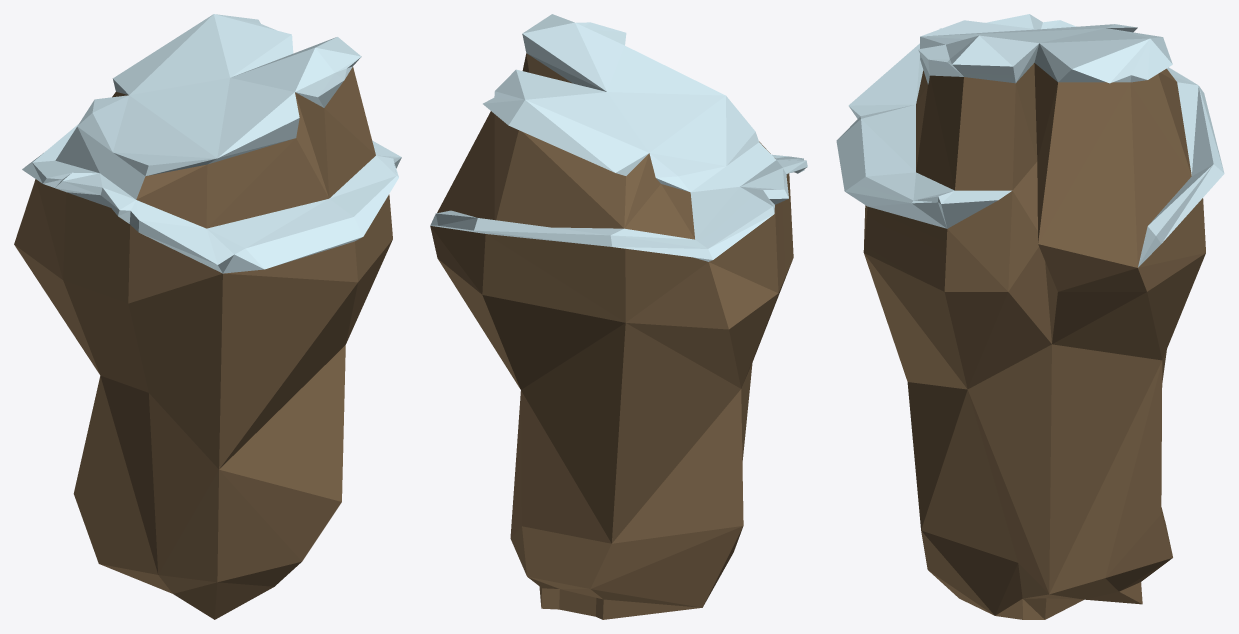
File: SM_Env_Rock_03_Snow.gltf
3 renders of one model, left to right at view 1: azimuth 30°, elevation 25°; view 2: azimuth 150°, elevation 25°; view 3: azimuth 270°, elevation 25°, orthographic. The views are drawn at different scales.
Visible parts, largest first — view 1: SM_Env_Rock_03_Snow; view 2: SM_Env_Rock_03_Snow; view 3: SM_Env_Rock_03_Snow.
Part boxes in pixels (x1,y1,x2,y2): SM_Env_Rock_03_Snow: (14, 14, 401, 619); SM_Env_Rock_03_Snow: (430, 14, 807, 619); SM_Env_Rock_03_Snow: (836, 14, 1224, 619).
Size of the model in its own units: 1.29 by 2.15 by 1.24.
Materials: 1 (1 with a texture image).
